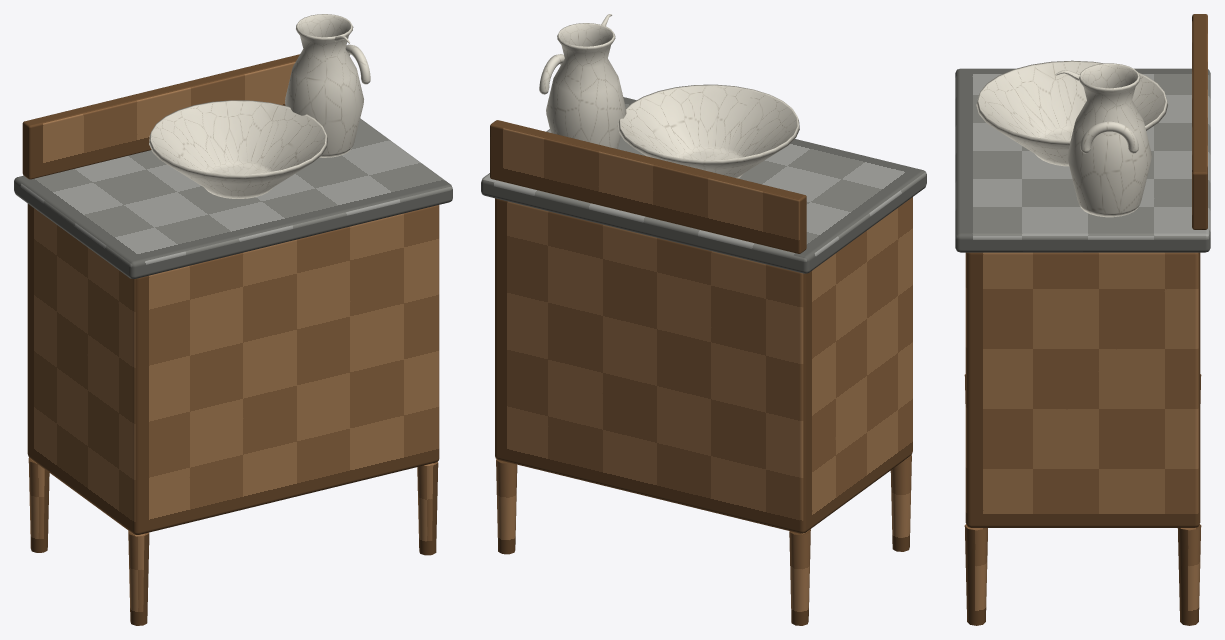
Rendered from washstand.glb.
3 views of the same model, side by side, from view 1: azimuth 30°, elevation 25°; view 2: azimuth 150°, elevation 25°; view 3: azimuth 270°, elevation 25° (orthographic). The views are drawn at different scales.
Parts seen in each view (by area): view 1: dyn_wood_variant, dyn_stone_variant, washstand; view 2: dyn_wood_variant, washstand, dyn_stone_variant; view 3: dyn_wood_variant, dyn_stone_variant, washstand.
Boxes of the visible parts, x1,y1,x2,y2 form: dyn_wood_variant: (22,54,439,625); dyn_stone_variant: (14,118,452,278); washstand: (149,14,370,198); dyn_wood_variant: (490,120,912,625); washstand: (539,14,799,178); dyn_stone_variant: (481,97,926,273); dyn_wood_variant: (964,14,1207,625); dyn_stone_variant: (955,68,1210,252); washstand: (976,60,1167,217).
Bounding box in the file's own units: 0.7502 × 1.1 × 0.4801.
3 materials, 3 textured.
